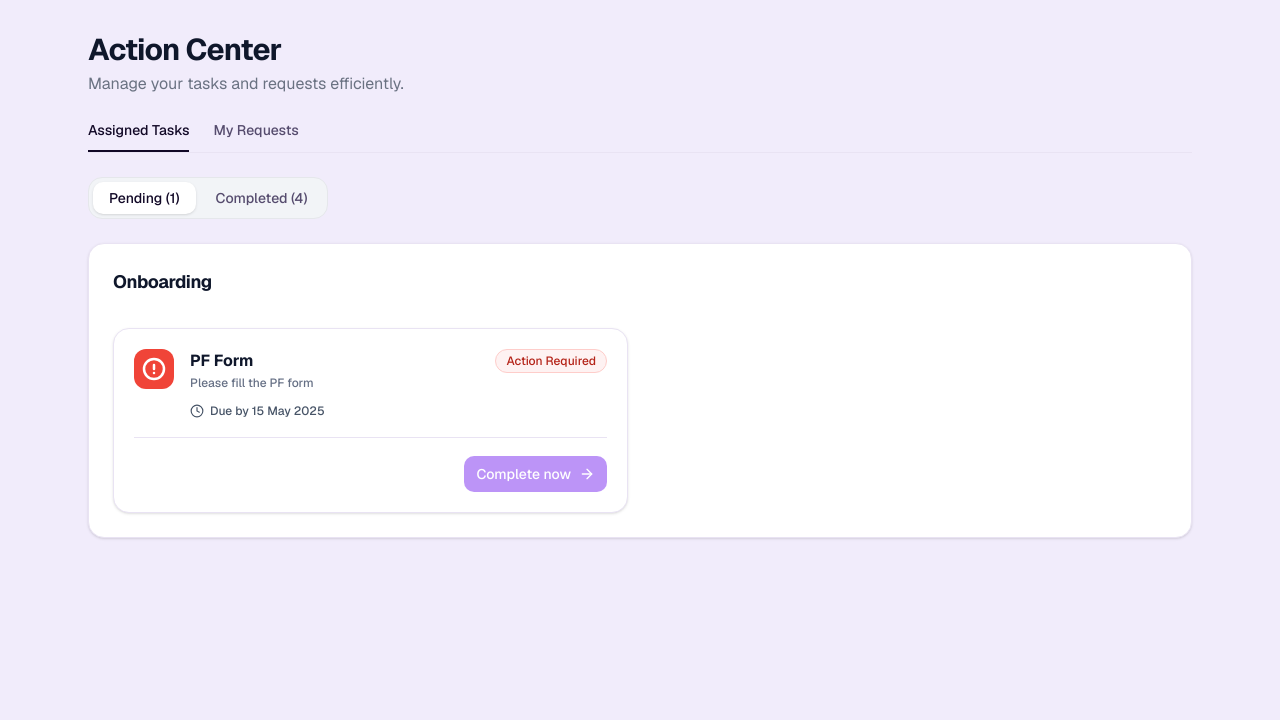
Scenario: ActionCenterPage – Assigned Tasks Content › shows completed/approved tasks when Completed filter is active
Click the button "Completed (4)": (262,198) [200,182,324,214]
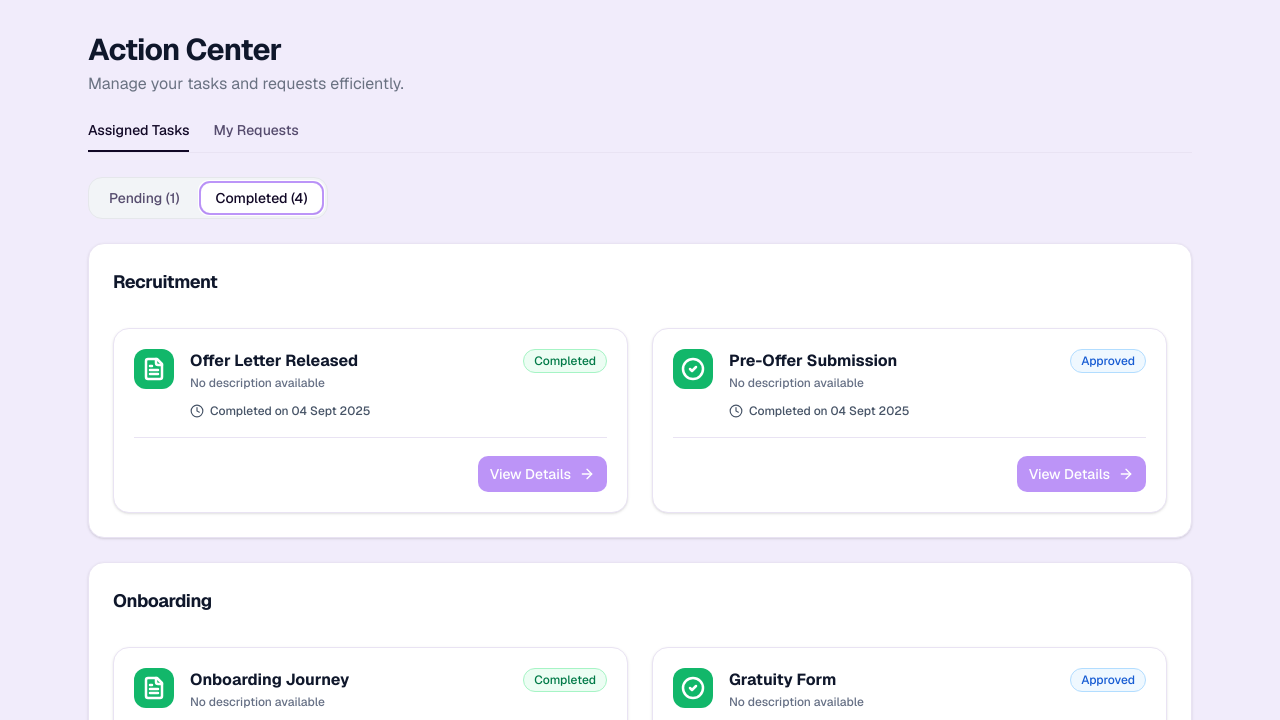
Expected: the heading "Offer Letter Released" is shown, [190,351,370,371]
Expected: the heading "Pre-Offer Submission" is shown, [729,351,910,371]
Expected: the heading "Onboarding Journey" is shown, [190,670,370,690]
